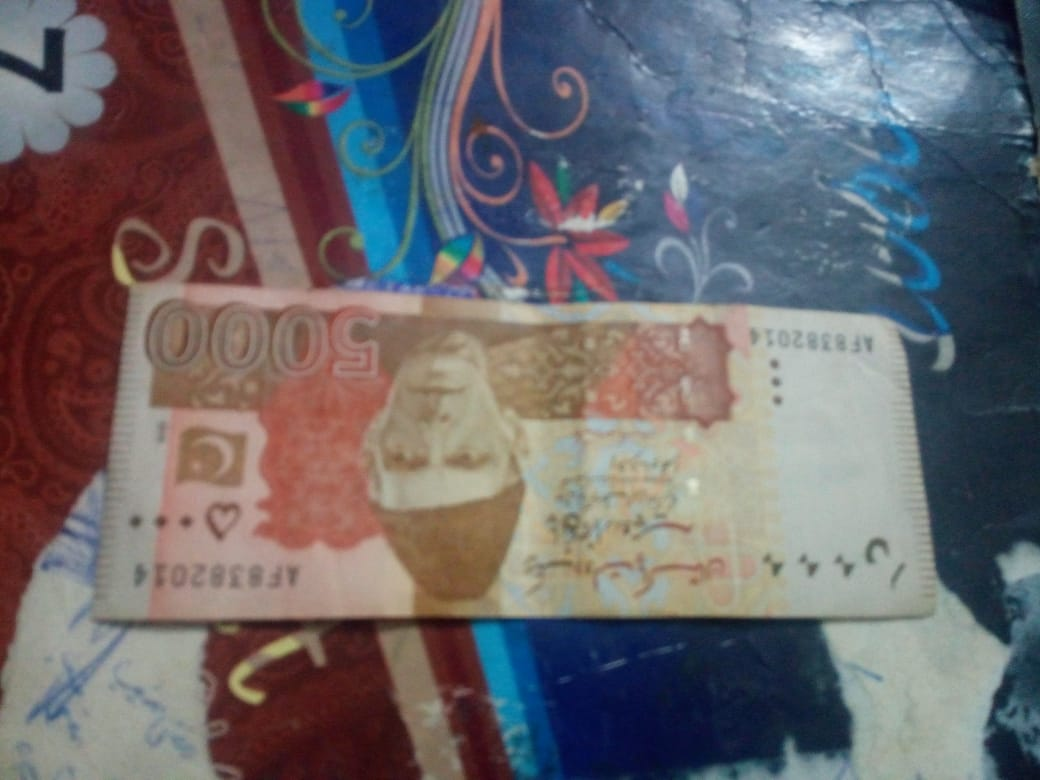5000 rupee: (117, 287, 947, 646)
